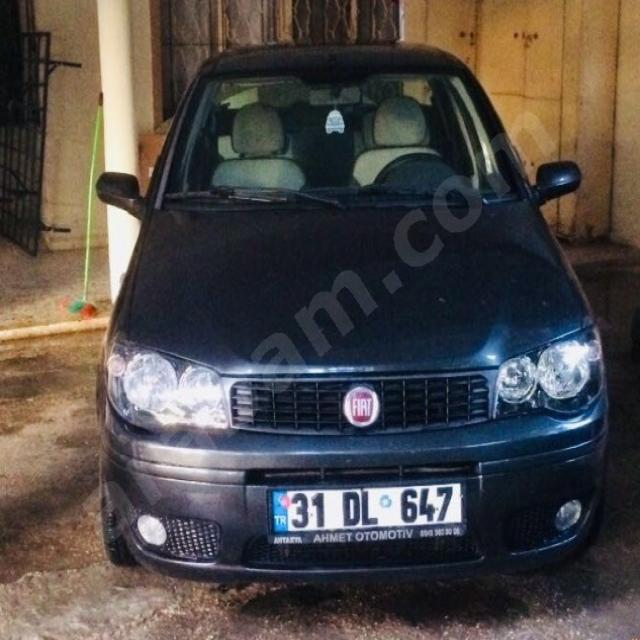license_plate: (270, 482, 464, 533)
